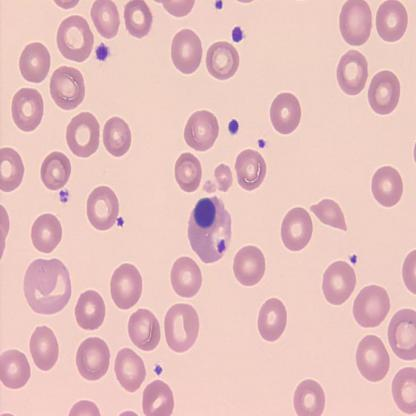NRC: (193, 195, 218, 228)
